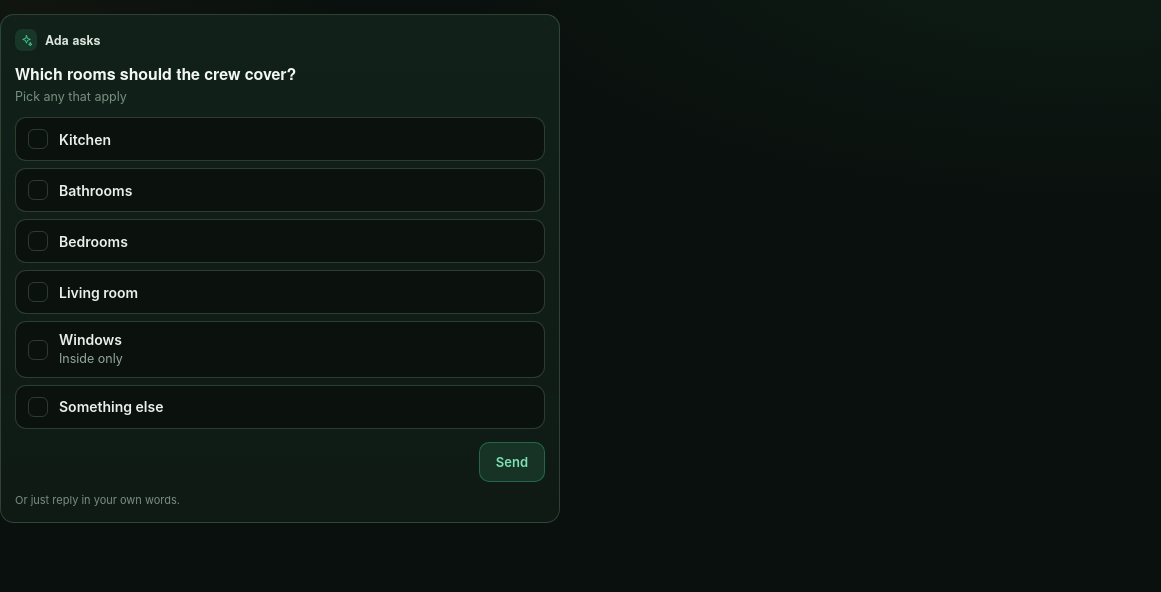
Test case: Ada choice cards › lets several be picked, with their own answer, and sends on Send
Later steps or results of the test are not shown.
Expected: the button "Send" is disabled, x1=479 y1=442 x2=545 y2=482
Click the checkbox labelled "Kitchen" at [85, 139], box x1=15 y1=117 x2=545 y2=161
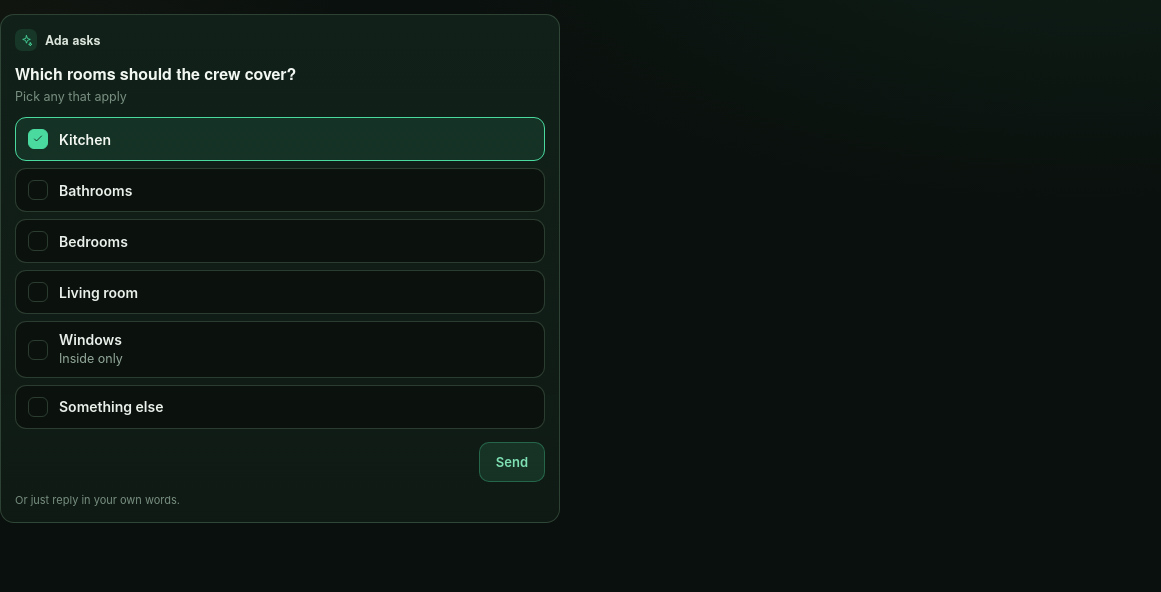
Click the checkbox labelled "Windows Inside only" at [90, 340], box x1=15 y1=321 x2=545 y2=378
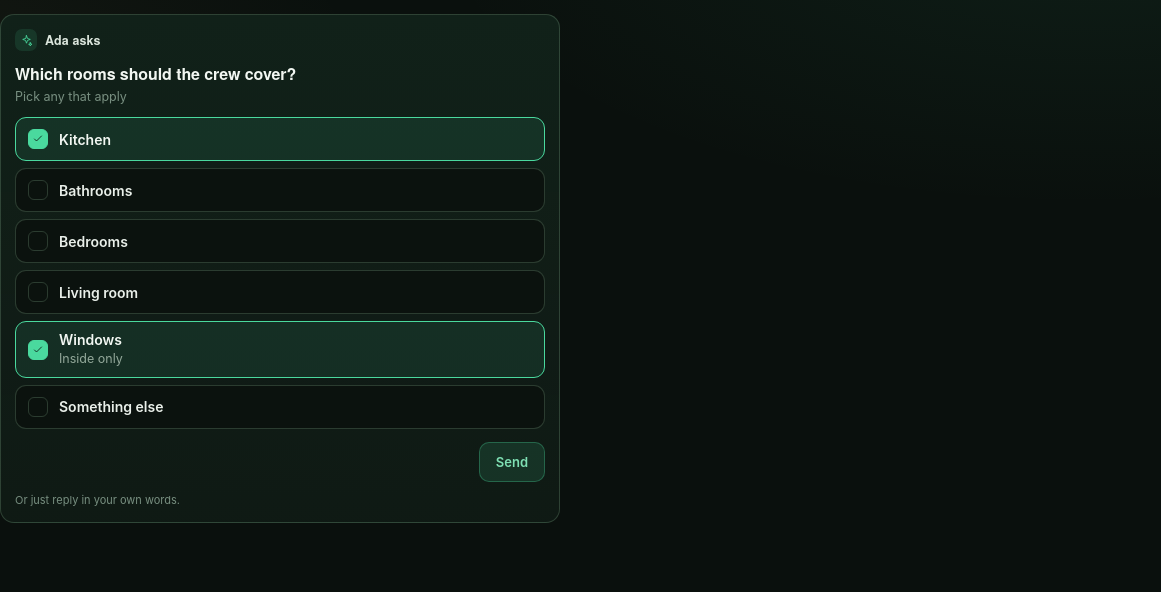
Click the checkbox labelled "Kitchen" at [85, 139], box x1=15 y1=117 x2=545 y2=161
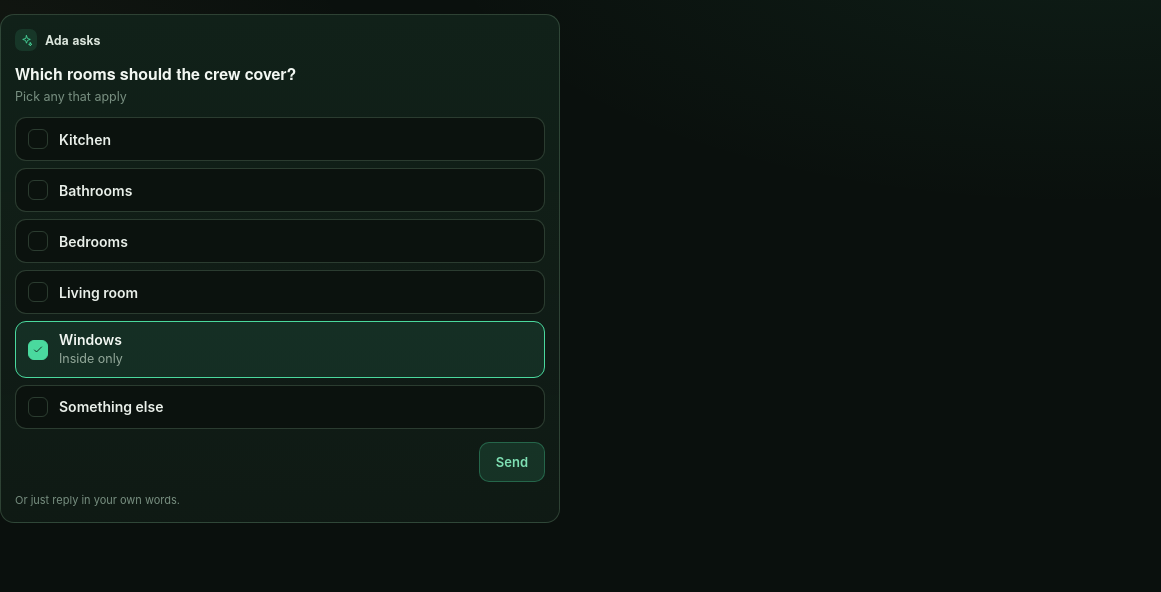
Click the checkbox labelled "Bathrooms" at [96, 190], box x1=15 y1=168 x2=545 y2=212
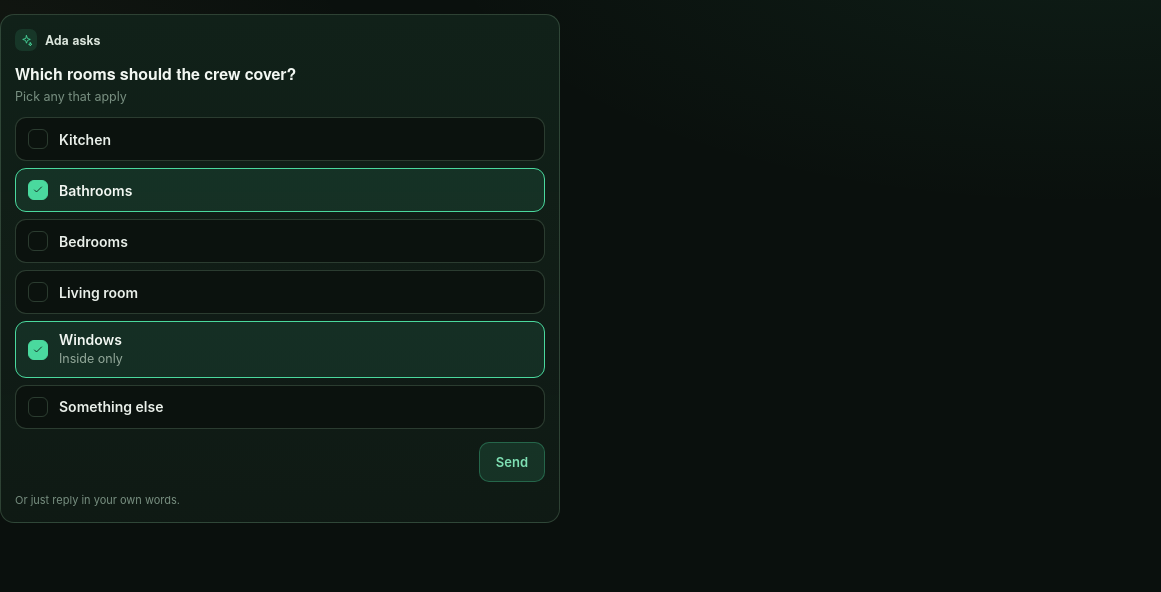
Click the checkbox labelled "Something else" at [111, 407], box x1=15 y1=385 x2=545 y2=429
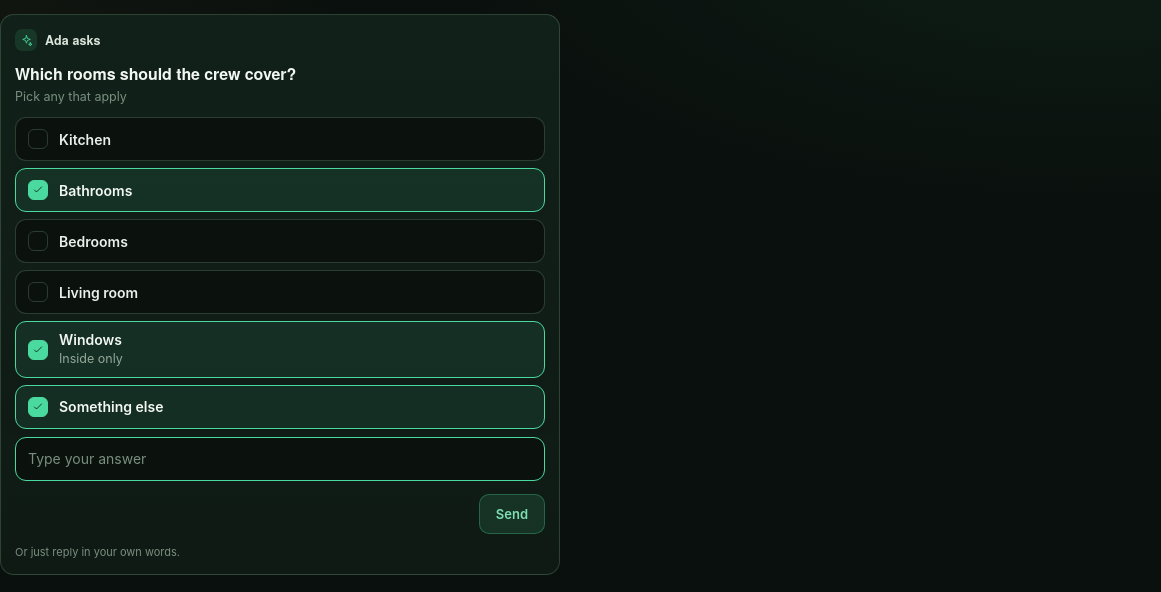
Type "Garage" into the field named "Your own answer" at [280, 459], box x1=15 y1=437 x2=545 y2=481
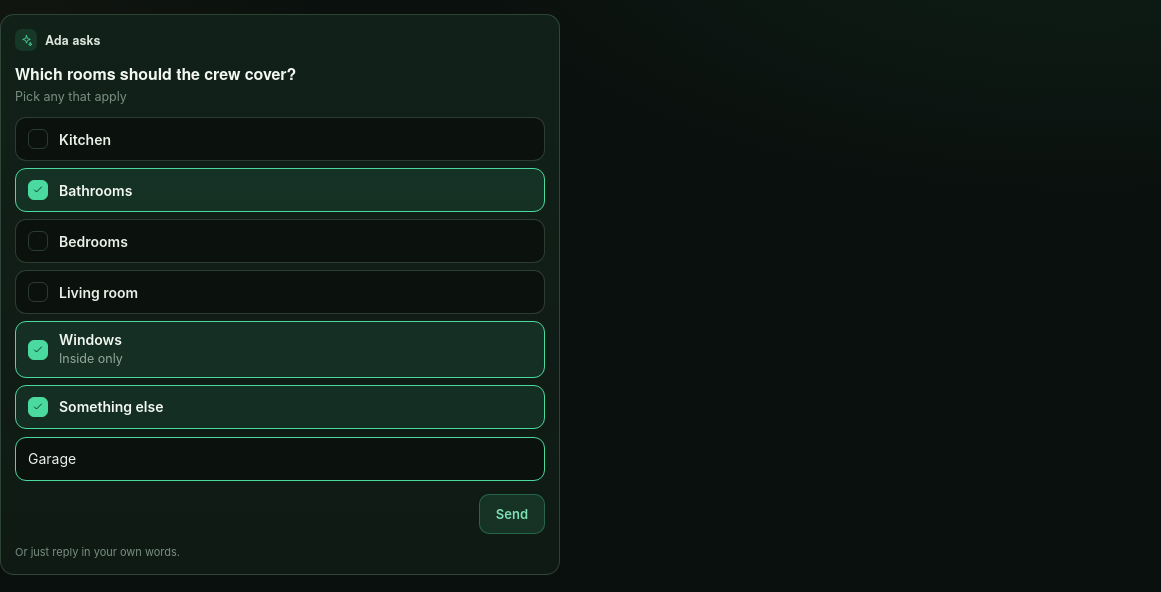
Now the checkbox labelled "Bathrooms" is checked, box x1=15 y1=168 x2=545 y2=212
